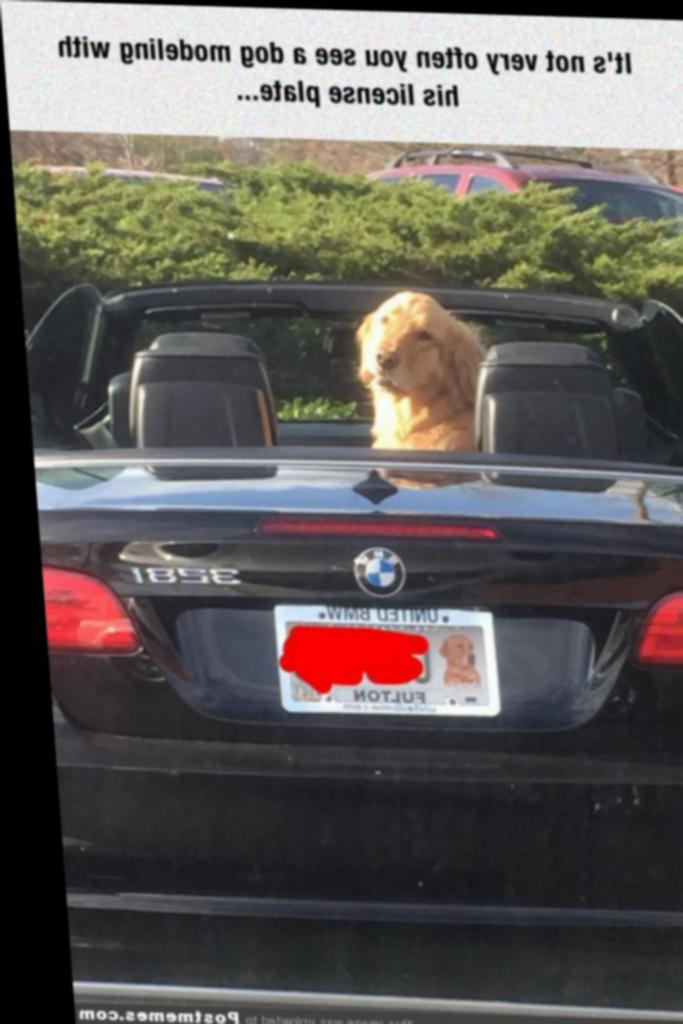License_Plate: (269, 595, 501, 721)
